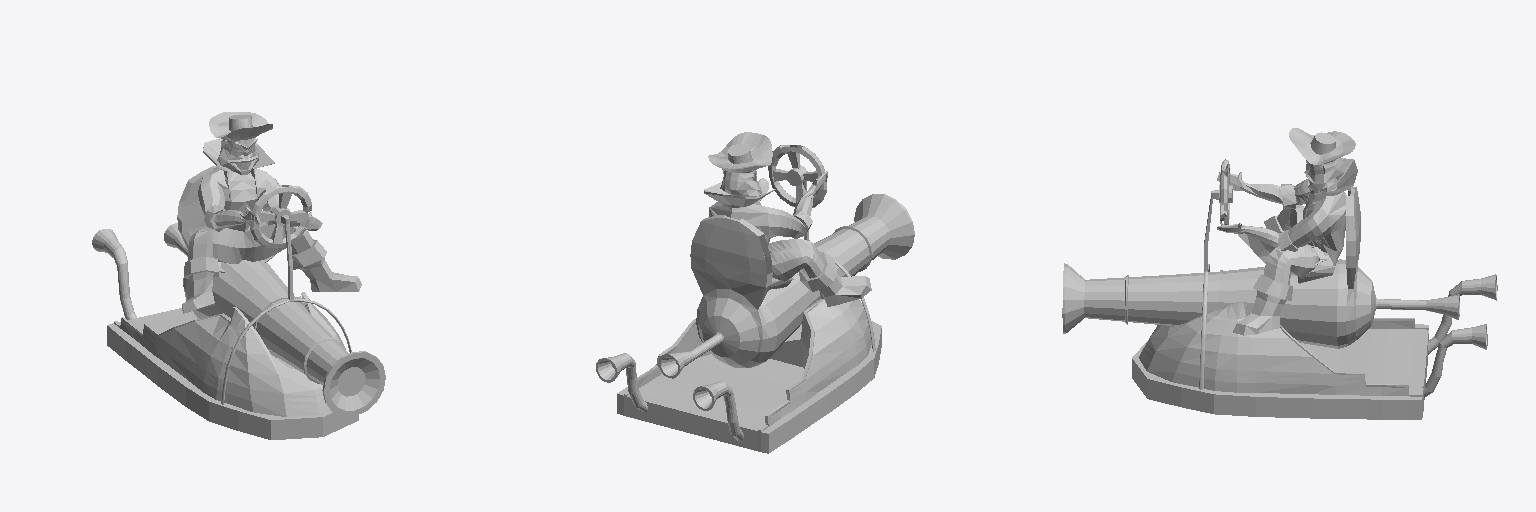
Rendered from pirataGiroDER_000311.obj.
The picture shows the model from 3 angles: view 1: azimuth 30°, elevation 25°; view 2: azimuth 150°, elevation 25°; view 3: azimuth 270°, elevation 25°; orthographic projection.
Parts seen in each view (by area): view 1: carro_pirata, Pirata_PirataH; view 2: carro_pirata, Pirata_PirataH; view 3: carro_pirata, Pirata_PirataH.
Part boxes in pixels (x1,y1,x2,y2): carro_pirata: (92,166,385,439); Pirata_PirataH: (182,112,361,313); carro_pirata: (596,145,914,453); Pirata_PirataH: (704,132,871,306); carro_pirata: (1062,159,1497,419); Pirata_PirataH: (1217,128,1357,335).
Size of the model in its own units: 5.65 by 7.69 by 12.1.